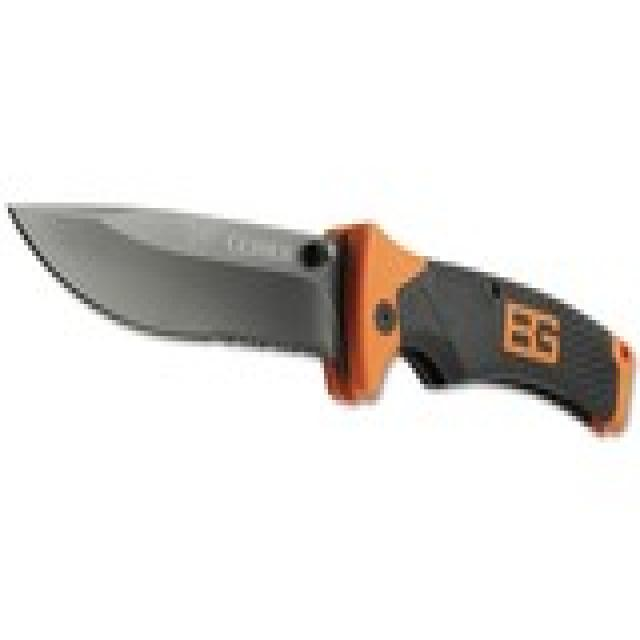Knife: (7, 178, 631, 461)
